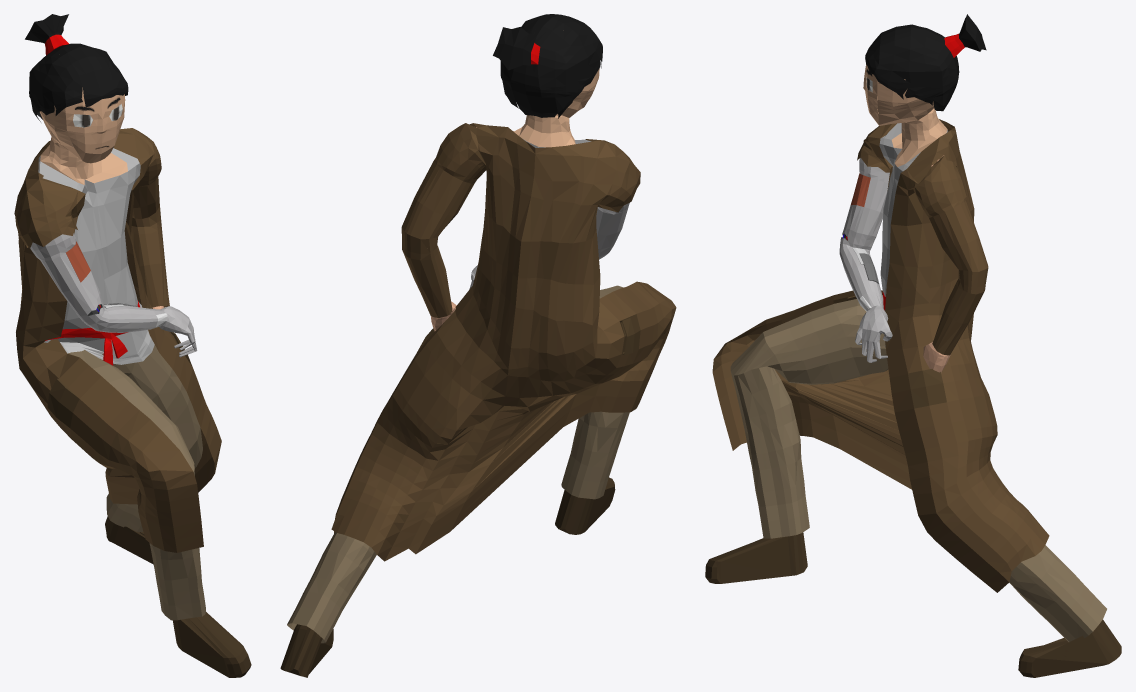
File: One_RL_000018.obj
The picture shows the model from 3 angles, left to right: view 1: azimuth 30°, elevation 25°; view 2: azimuth 150°, elevation 25°; view 3: azimuth 270°, elevation 25°; orthographic projection. The views are drawn at different scales.
Parts seen in each view (by area): view 1: Hair_Cube.004; view 2: Hair_Cube.004; view 3: Hair_Cube.004.
Boxes of the visible parts, x1=… form: Hair_Cube.004: x1=14, y1=14, x2=251, y2=677; Hair_Cube.004: x1=280, y1=14, x2=676, y2=677; Hair_Cube.004: x1=705, y1=14, x2=1121, y2=677.
Size of the model in its own units: 1.42 by 3.48 by 2.25.
